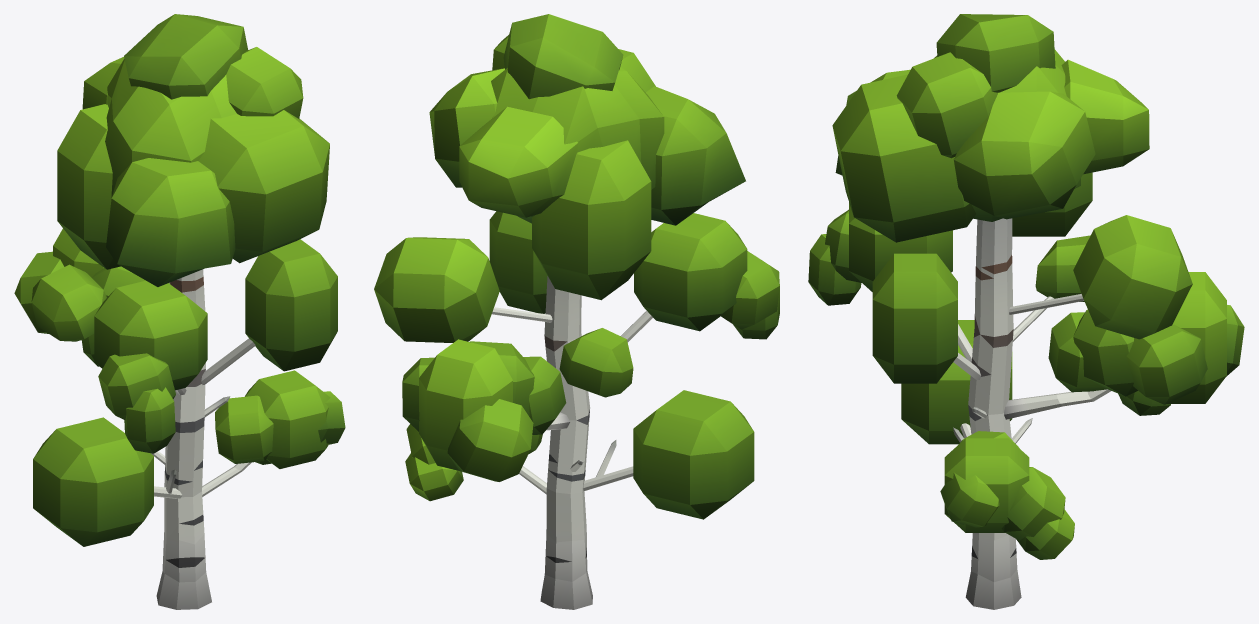
Rendered from SilverBirchTreeLarge.fbx.
3 views of the same model, side by side, from view 1: azimuth 30°, elevation 25°; view 2: azimuth 150°, elevation 25°; view 3: azimuth 270°, elevation 25° (orthographic). The views are drawn at different scales.
Parts seen in each view (by area): view 1: SilverBirchTreeLarge; view 2: SilverBirchTreeLarge; view 3: SilverBirchTreeLarge.
Boxes of the visible parts, x1,y1,x2,y2 form: SilverBirchTreeLarge: (14, 14, 345, 609); SilverBirchTreeLarge: (374, 14, 779, 609); SilverBirchTreeLarge: (808, 14, 1244, 609).
Bounding box in the file's own units: 348 × 628 × 422.
